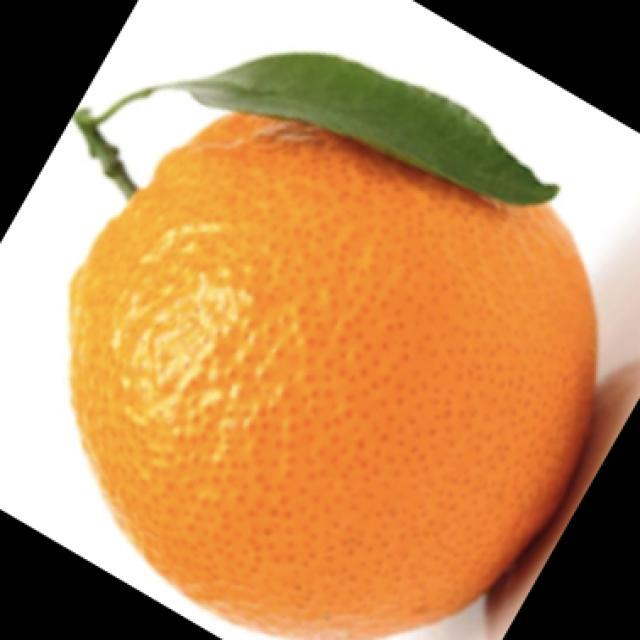matang: (71, 114, 594, 639)
